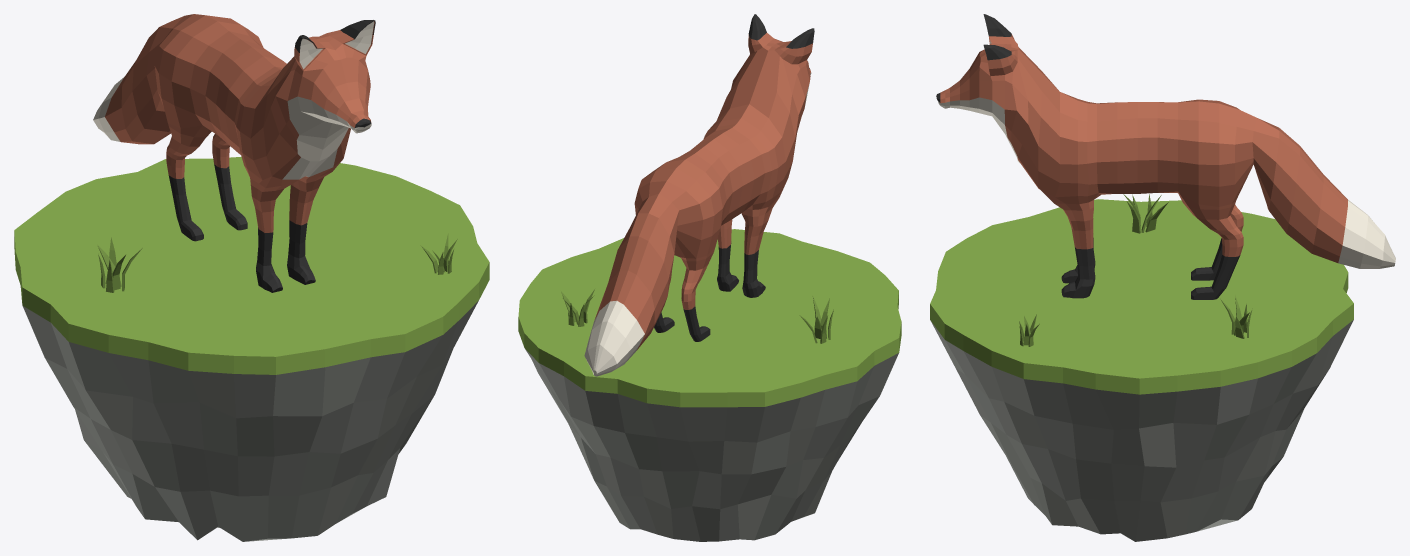
Rendered from LowPolyFox.glb.
3 renders of one model, left to right at view 1: azimuth 30°, elevation 25°; view 2: azimuth 150°, elevation 25°; view 3: azimuth 270°, elevation 25°, orthographic. The views are drawn at different scales.
Visible parts, largest first — view 1: Terrain, Cube, Plane; view 2: Terrain, Cube, Plane, Plane.002; view 3: Terrain, Cube, Plane, Plane.002.
Part boxes in pixels (x1,y1,x2,y2): Terrain: [14, 156, 489, 541]; Cube: [93, 14, 375, 292]; Plane: [97, 237, 142, 292]; Terrain: [518, 229, 901, 541]; Cube: [584, 14, 814, 376]; Plane: [799, 295, 833, 343]; Plane.002: [561, 289, 594, 326]; Terrain: [930, 199, 1353, 541]; Cube: [936, 14, 1395, 299]; Plane: [1123, 194, 1168, 233]; Plane.002: [1220, 295, 1252, 338].
Bounding box in the file's own units: 2.02 × 2.44 × 2.21.
